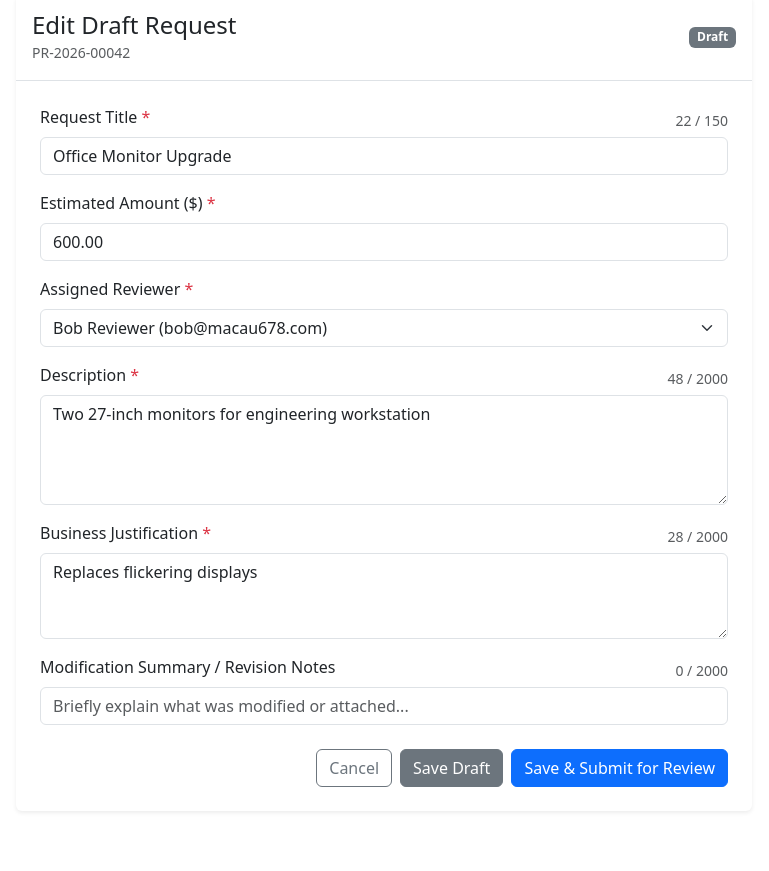
Scenario: Frontend component tests: Authentication and Authorization › EditRequest save and submit behavior (Draft, Pending Review, Returned) › displays error feedback and stays on the edit page when submission fails
Click the button "Save & Submit for Review": (620,768) [511,749,728,787]
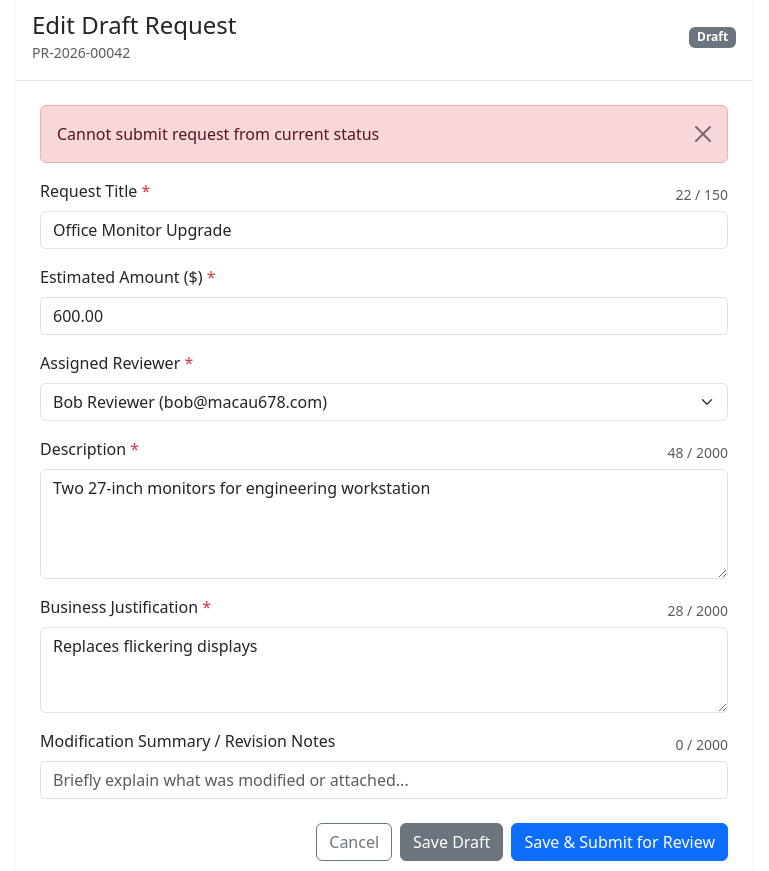
Expected: the button "Save & Submit for Review" is enabled, [511,823,728,861]
Result: the text "Cannot submit request from current status" is shown at [40,105,728,163]
